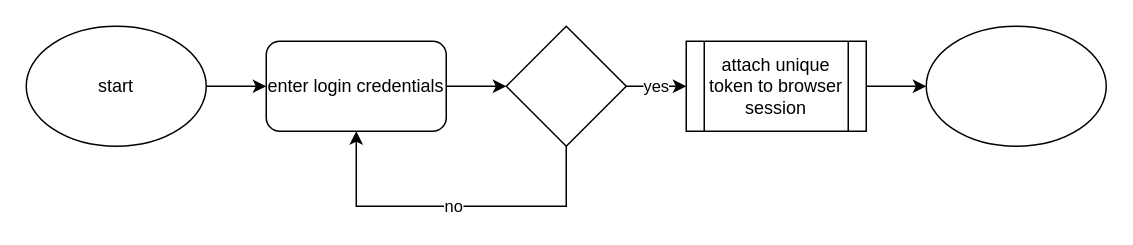
This 1133x245 diagram has some shape labels left out. Each missing label, with the centre of its shape:
are they correct?: (x=565, y=85)
end: (x=1015, y=85)
